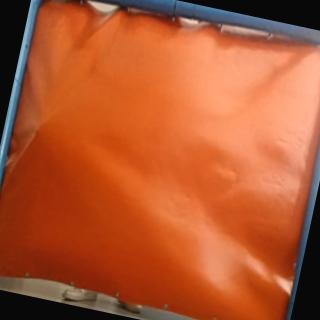Hit-hRxx: (30, 116, 50, 138)
